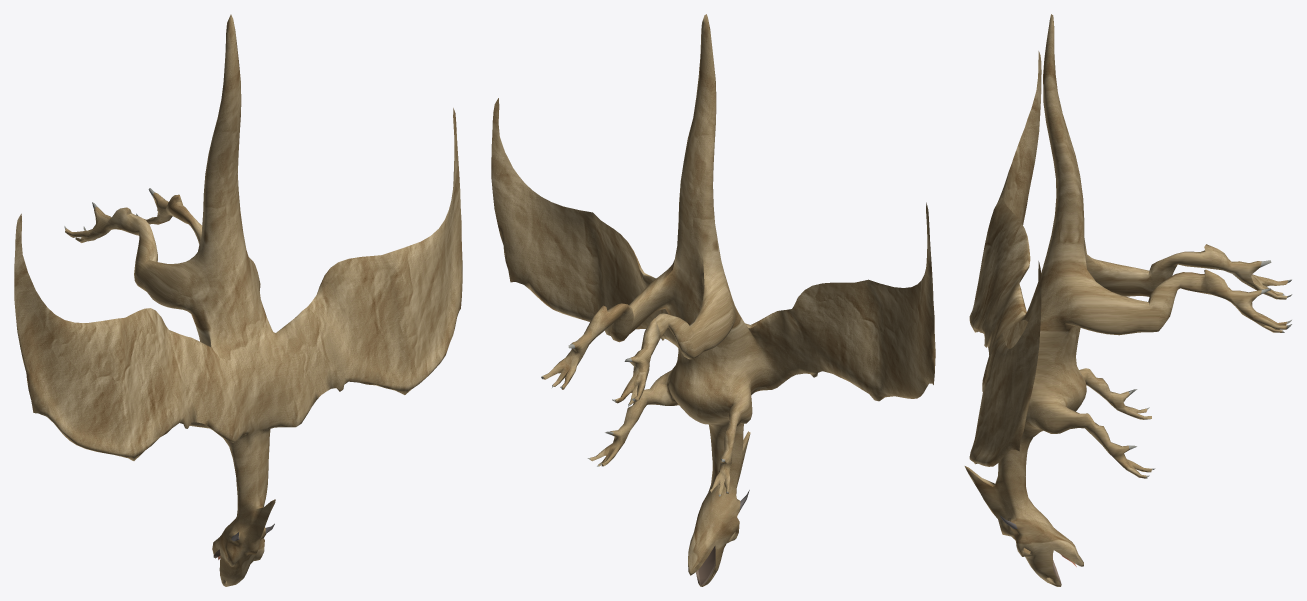
Rendered from dragon_my.dae.
3 renders of one model, left to right at view 1: azimuth 30°, elevation 25°; view 2: azimuth 150°, elevation 25°; view 3: azimuth 270°, elevation 25°, orthographic.
Parts seen in each view (by area): view 1: Gaurdian-S_Gaurdian-S; view 2: Gaurdian-S_Gaurdian-S; view 3: Gaurdian-S_Gaurdian-S.
Part boxes in pixels (box(x1,y1,x2,y2)): Gaurdian-S_Gaurdian-S: box(14, 14, 462, 586); Gaurdian-S_Gaurdian-S: box(491, 14, 935, 586); Gaurdian-S_Gaurdian-S: box(964, 14, 1292, 586).
Bounding box in the file's own units: 0.8773 × 0.5619 × 1.08.
6 materials, 1 textured.
